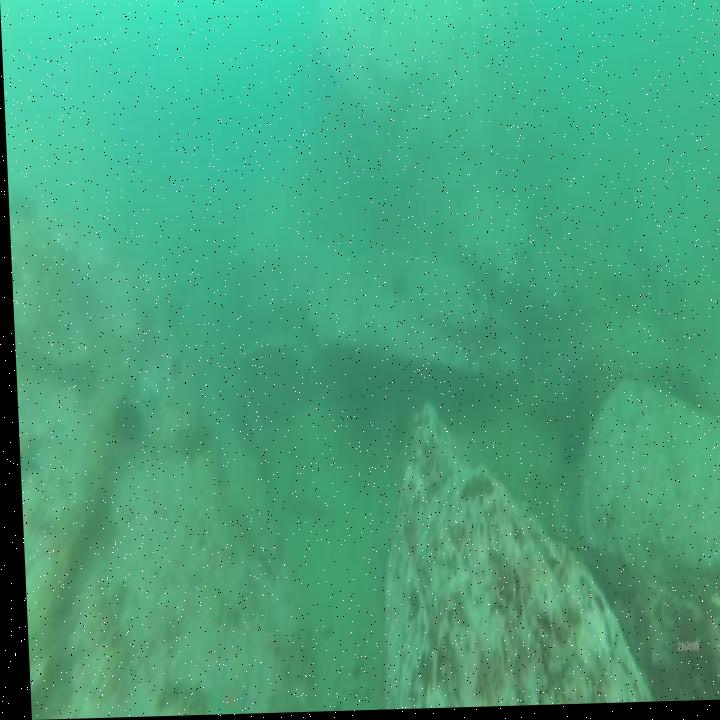echinus: (113, 402, 138, 445)
holothurian: (146, 675, 198, 717)
